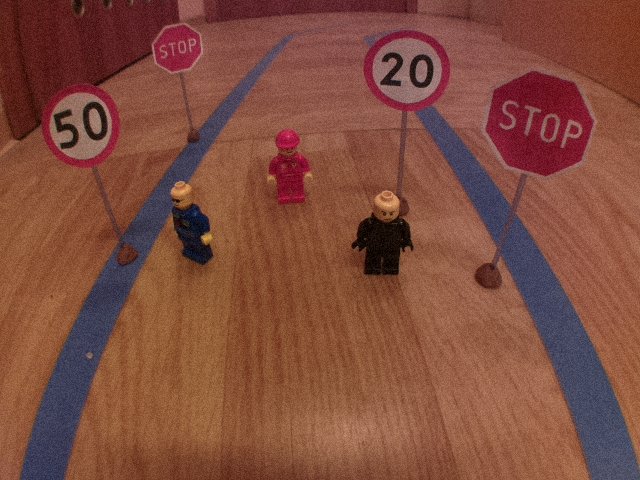LEGO_person: (350, 190, 417, 279), (168, 180, 217, 270), (266, 126, 317, 209)
ogr_20: (362, 28, 452, 113)
ogr_50: (39, 82, 122, 172)
stop: (479, 67, 600, 182), (150, 22, 203, 74)
